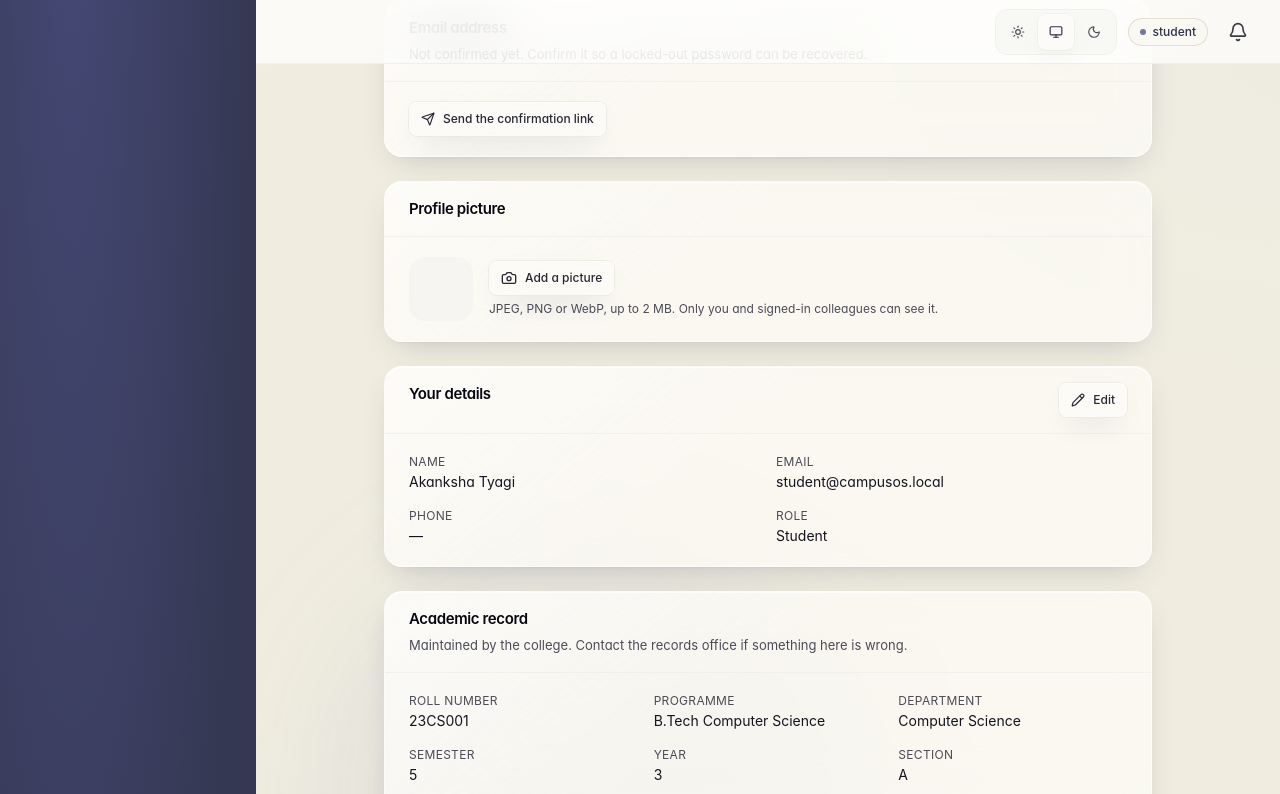
your profile › shows the reason when the server refuses a field
The image size is (1280, 794).
(page scrolled)
Click the button "Edit": coordinates (1093, 400) [1059,383,1127,417]
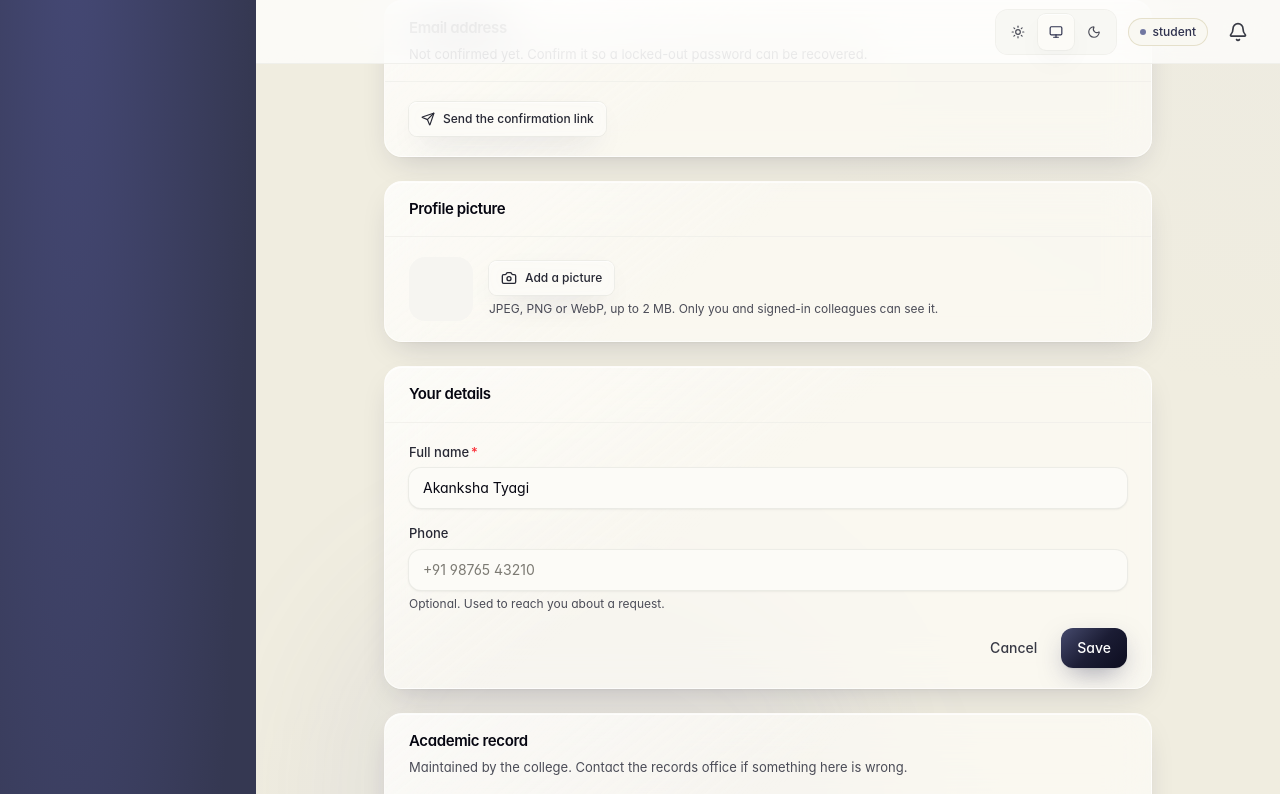
Replace the text in the field labelled "Full name*" with "Updated Name": coordinates (768, 488) [409,468,1127,508]
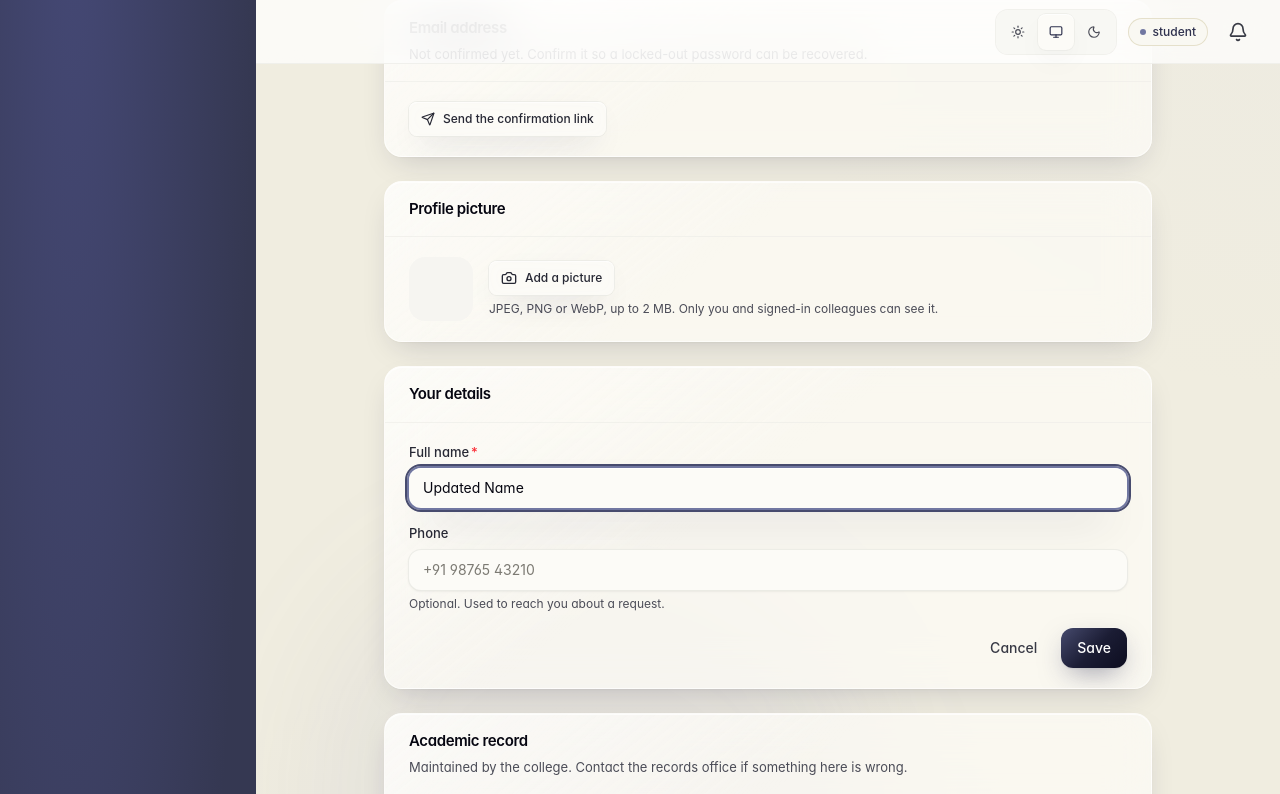
Click the button "Save": coordinates (1094, 648) [1061,628,1127,668]
(page scrolled)
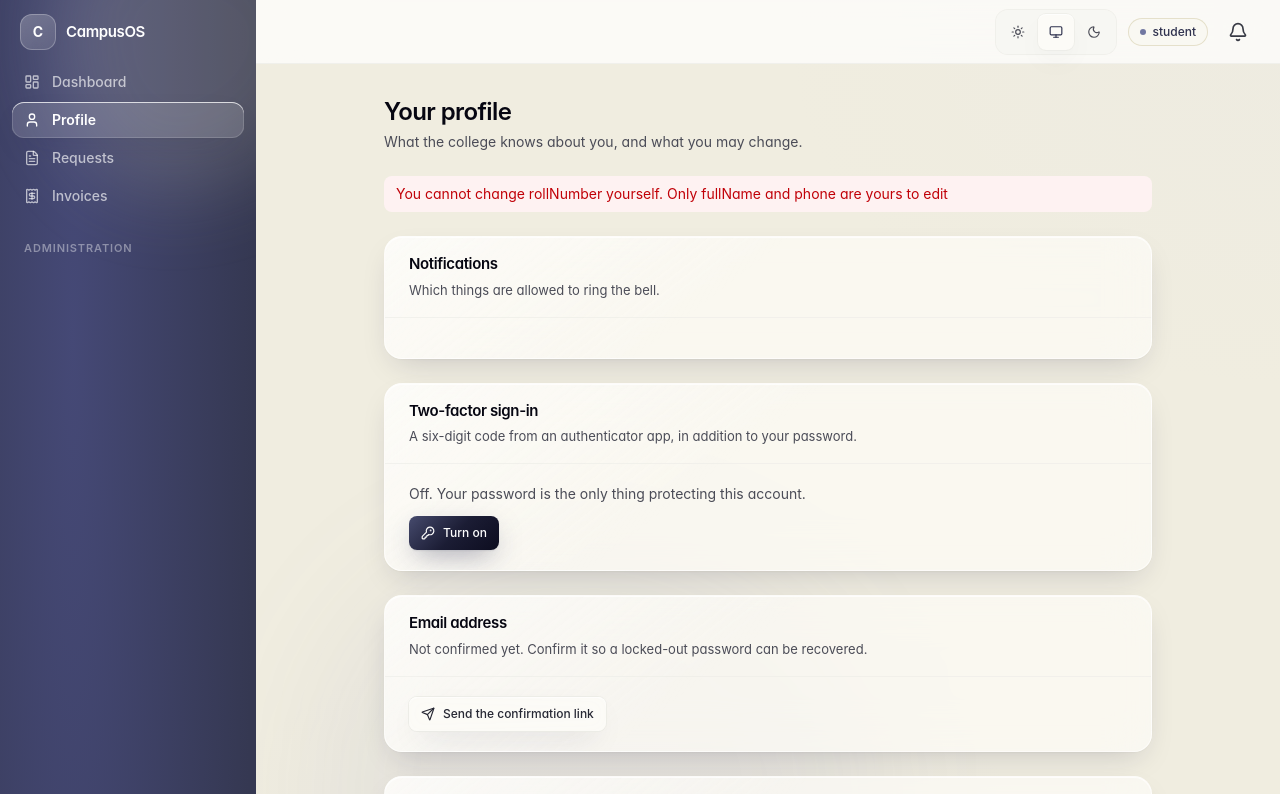
Now the message shows "cannot change rollNumber", box [396,185,948,202]
